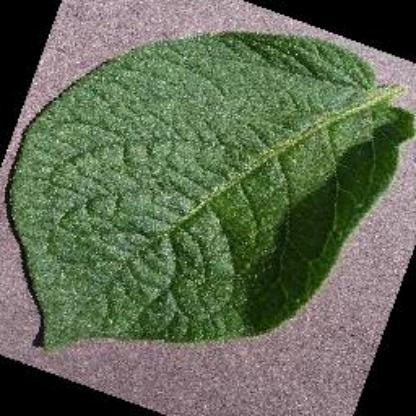Healthy-plant: (7, 14, 411, 377)
